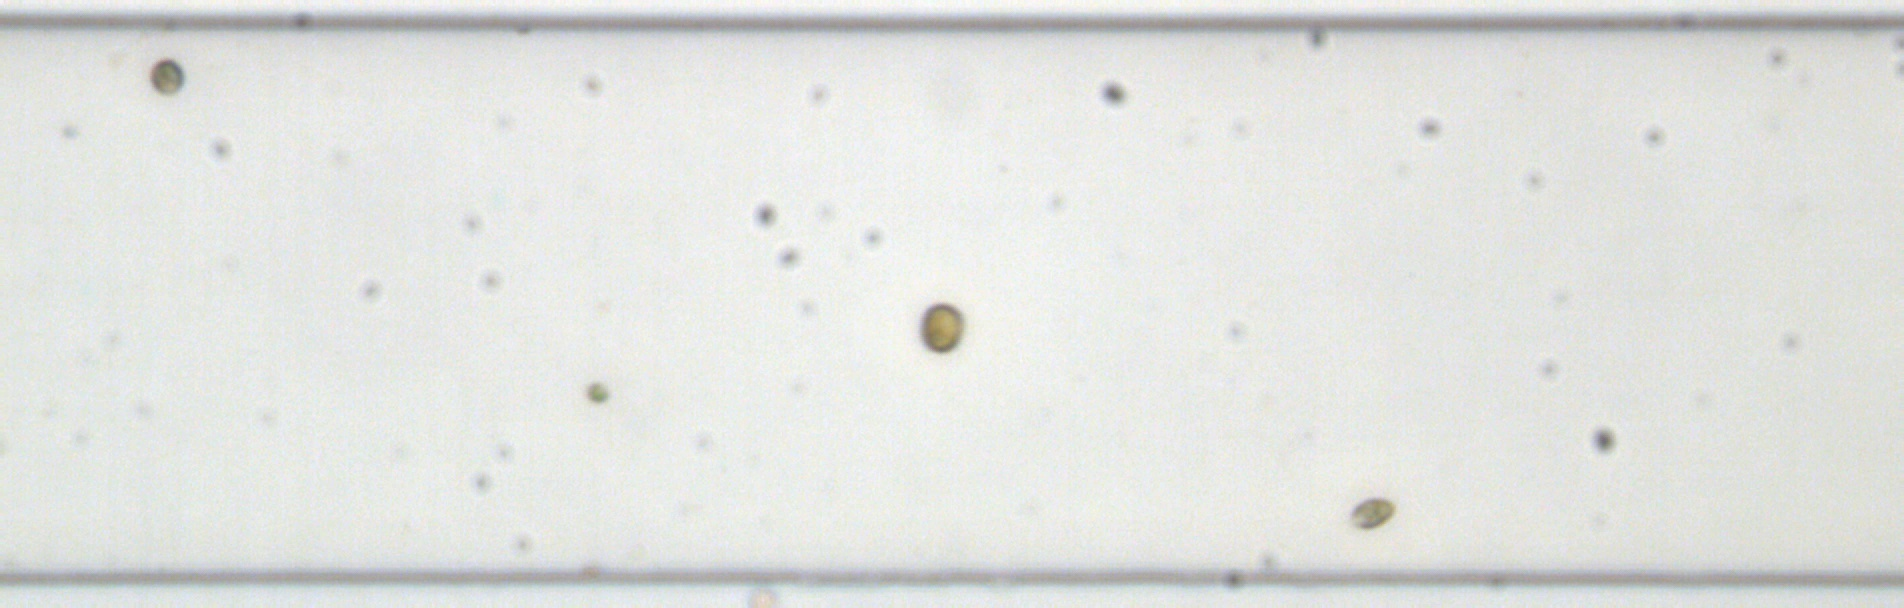Chlorella: (584, 380, 610, 403)
Dunaliella salina: (1344, 494, 1398, 534), (147, 55, 186, 100)
Effrenium: (917, 301, 969, 356)
